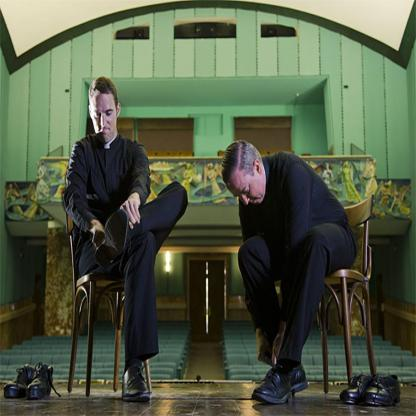face: (224, 150, 268, 208), (92, 89, 119, 144)
